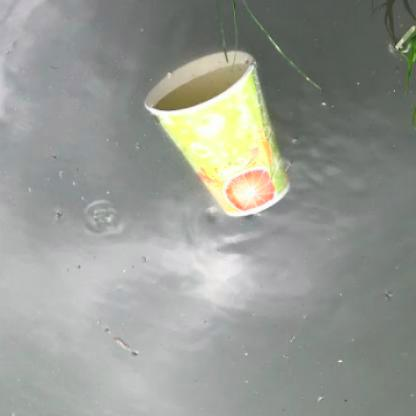Plastic: (141, 41, 294, 222)
